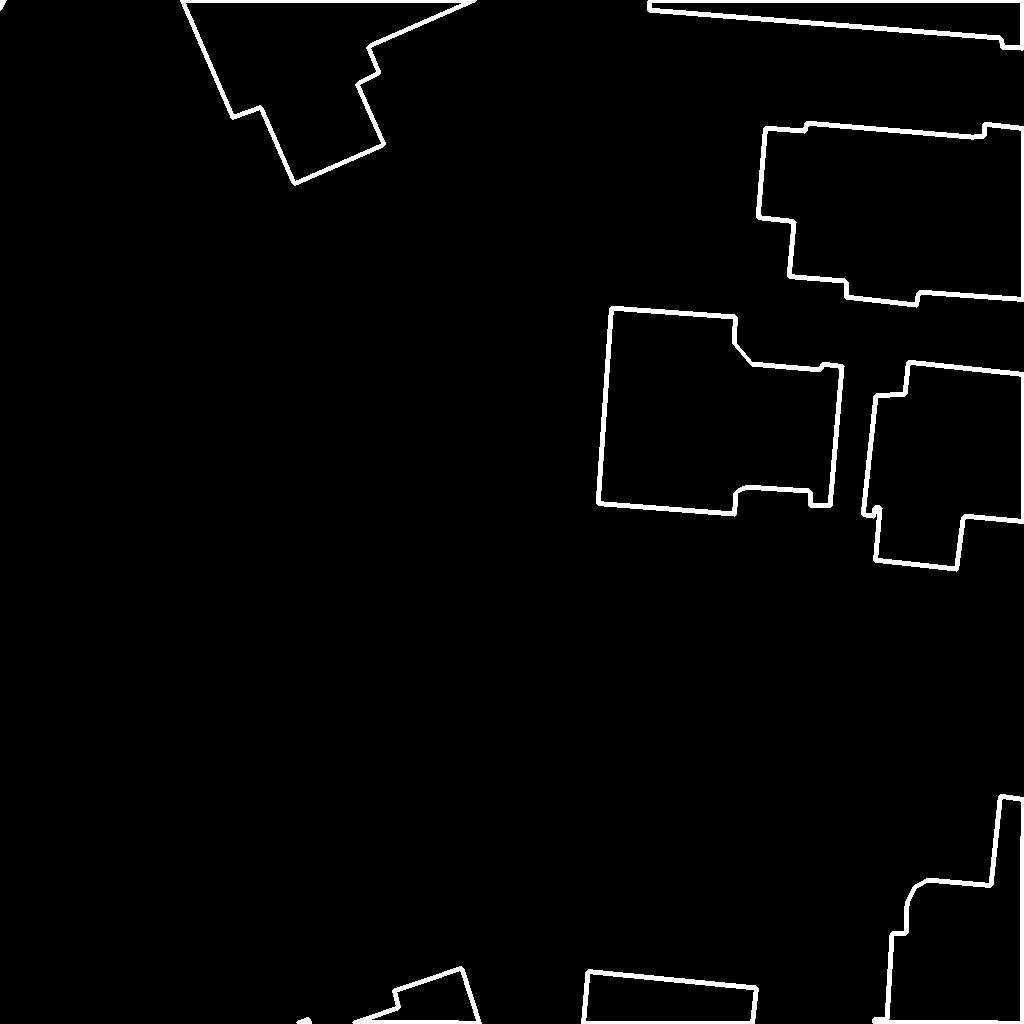building: (182, 0, 477, 185), (598, 308, 843, 515), (758, 123, 1024, 306), (874, 796, 1024, 1024), (863, 362, 1024, 570), (649, 0, 1024, 49), (297, 968, 481, 1024), (583, 971, 758, 1024), (0, 0, 6, 10)
